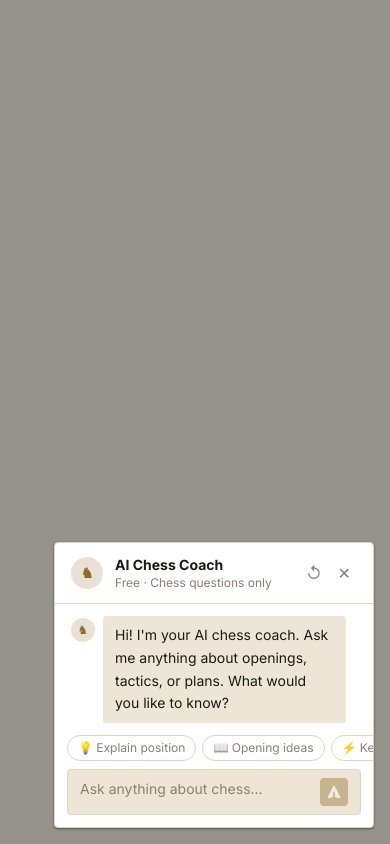
Scenario: AICoachPanel › sends a message on Enter and renders the reply
Type "What should I play?" into the text box with placeholder "Ask anything about chess…" at (196,792), box top-left (80, 778), bottom-right (312, 806)
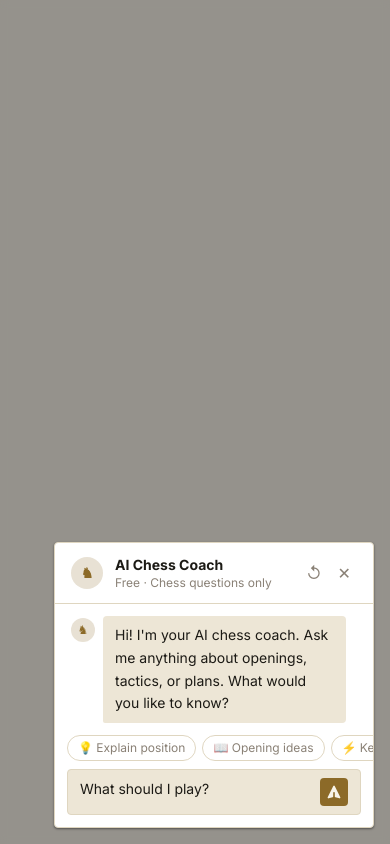
Press Enter in the text box with placeholder "Ask anything about chess…", box top-left (80, 778), bottom-right (312, 806)
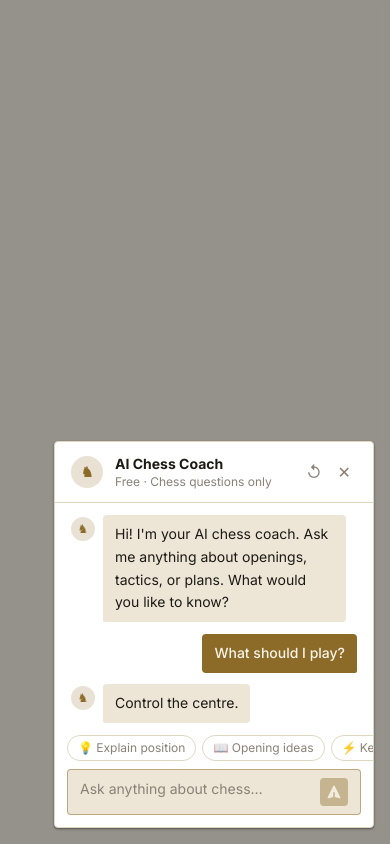
Expected: the text "What should I play?" is shown, top-left (214, 644), bottom-right (345, 660)
Expected: the text "Control the centre." is shown, top-left (115, 694), bottom-right (238, 711)
Expected: the text box with placeholder "Ask anything about chess…" is empty, top-left (80, 778), bottom-right (312, 806)
